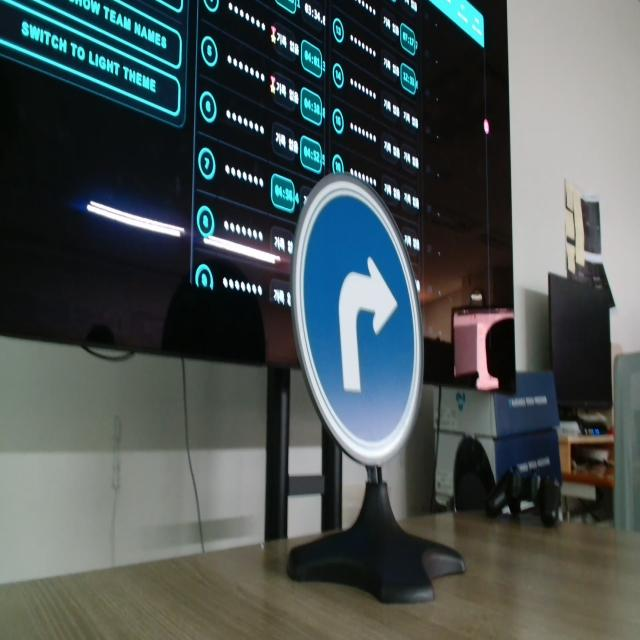right_dierection: (282, 164, 441, 474)
